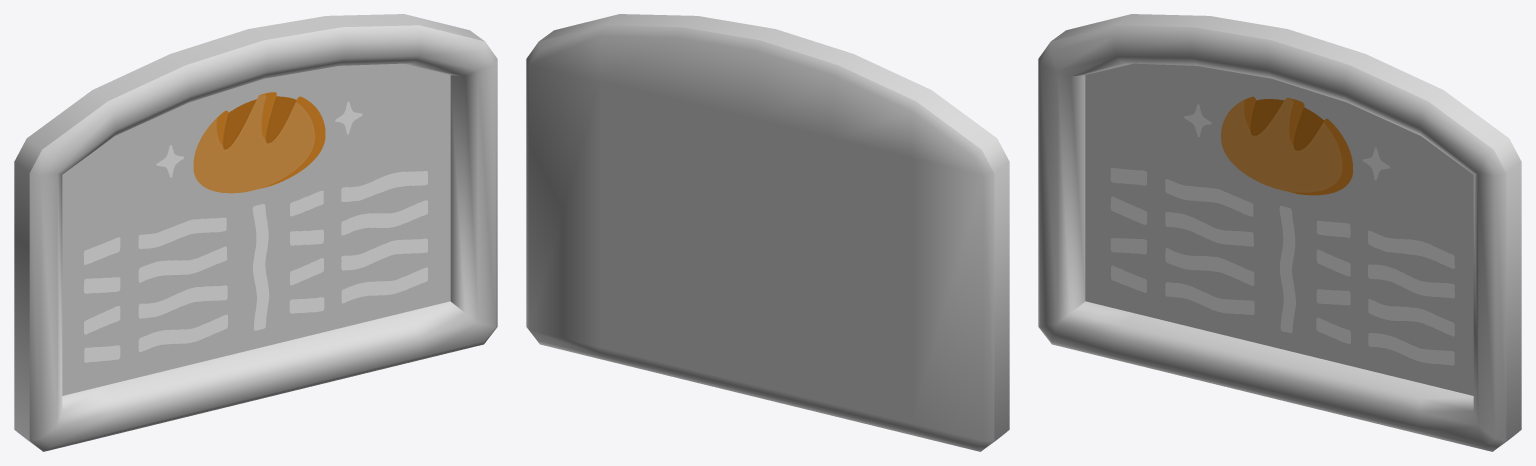
The model's file is Homestead_mbf_sy_5.fbx.
3 views of the same model, side by side, from view 1: azimuth 30°, elevation 25°; view 2: azimuth 150°, elevation 25°; view 3: azimuth 330°, elevation 25° (orthographic).
Parts seen in each view (by area): view 1: Homestead_mbf_sy_5, Homestead_mbf_sy_5_01; view 2: Homestead_mbf_sy_5; view 3: Homestead_mbf_sy_5, Homestead_mbf_sy_5_01.
Part boxes in pixels (x1=…): Homestead_mbf_sy_5: x1=14, y1=14, x2=497, y2=451; Homestead_mbf_sy_5_01: x1=83, y1=92, x2=428, y2=362; Homestead_mbf_sy_5: x1=526, y1=14, x2=1009, y2=451; Homestead_mbf_sy_5: x1=1038, y1=14, x2=1521, y2=451; Homestead_mbf_sy_5_01: x1=1110, y1=96, x2=1454, y2=365.
Size of the model in its own units: 157 by 115 by 13.74.
